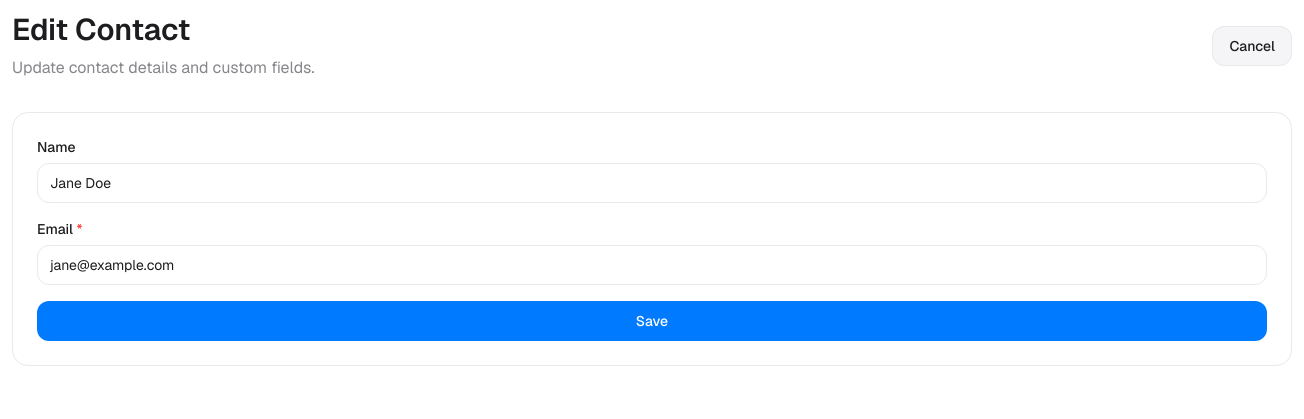
Test: ContactEditPage › shows an error when saving fails
Expected: the field labelled "Email *" is shown, [37,245,1267,285]
Click the button "Save" at (652, 321), box [37,301,1267,341]
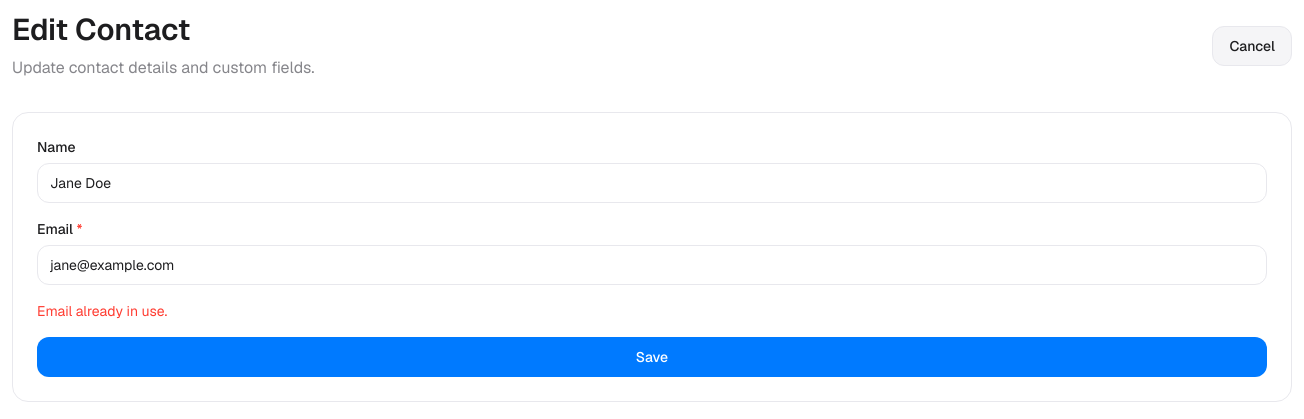
Result: the message reads "Email already in use." at [37,302,167,320]
